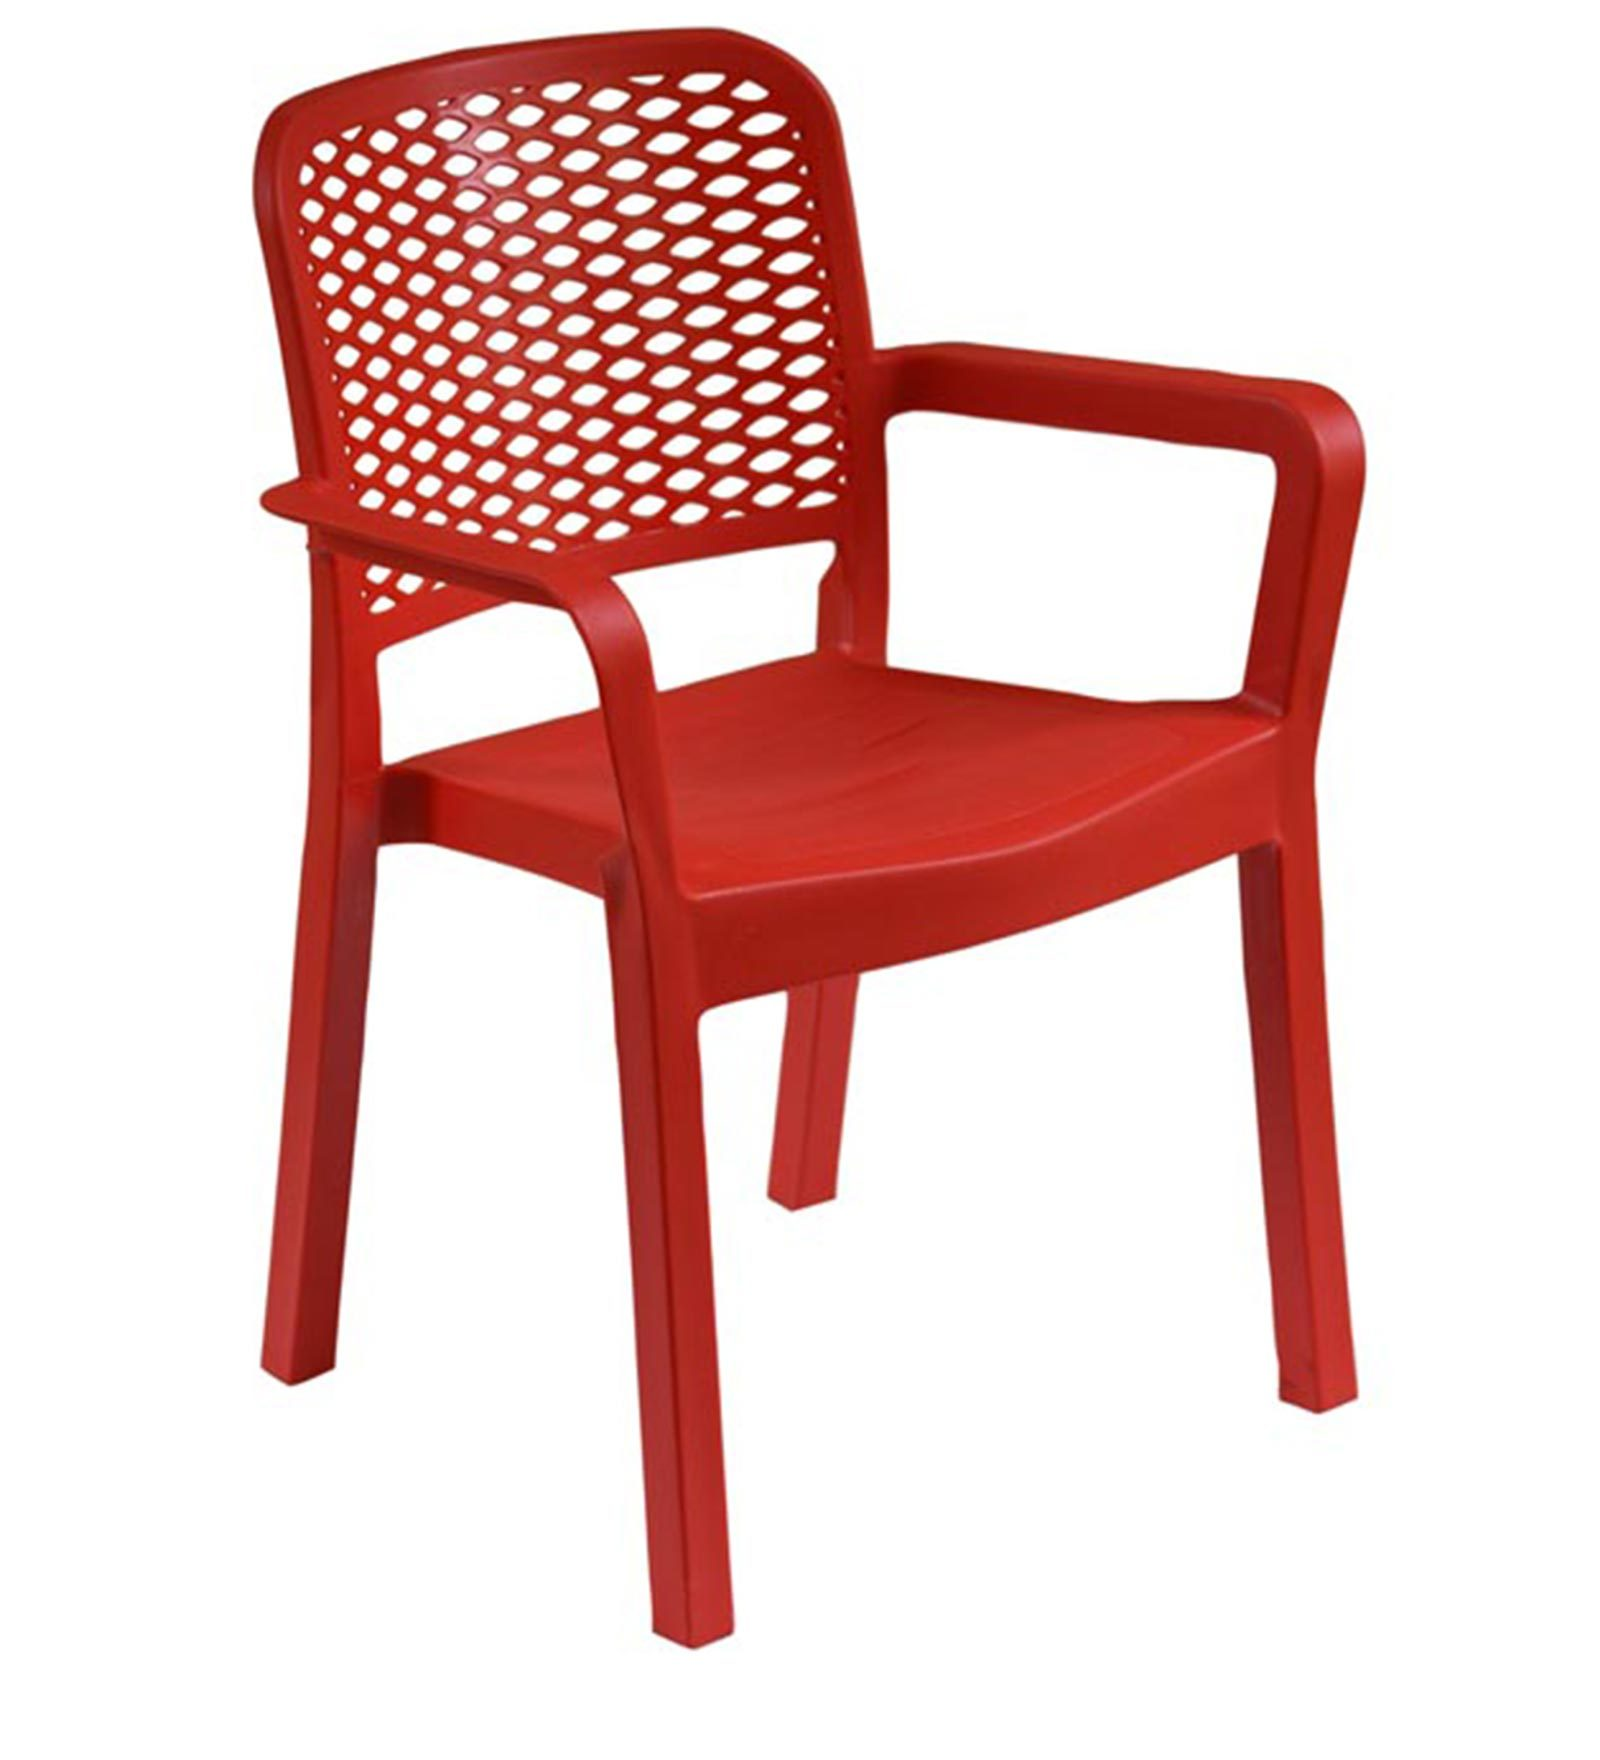Luxury Plastic Chair in Red Colour by Italica Furniture: (234, 17, 1395, 1656)
